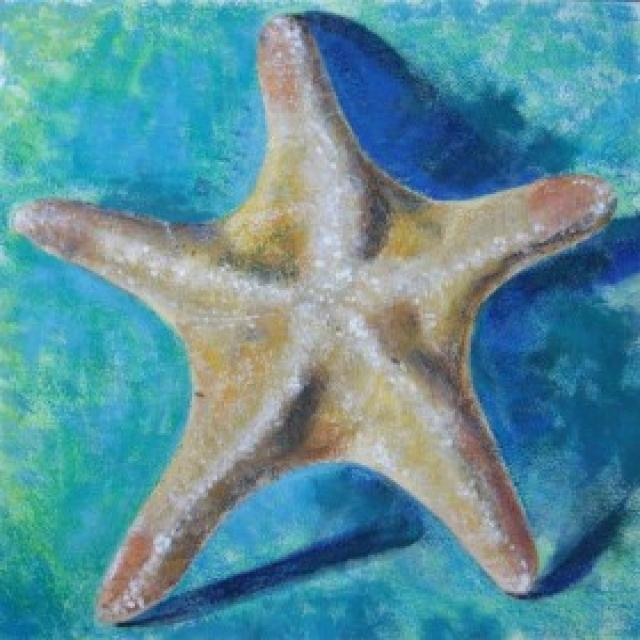Starfish: (9, 8, 629, 630)
